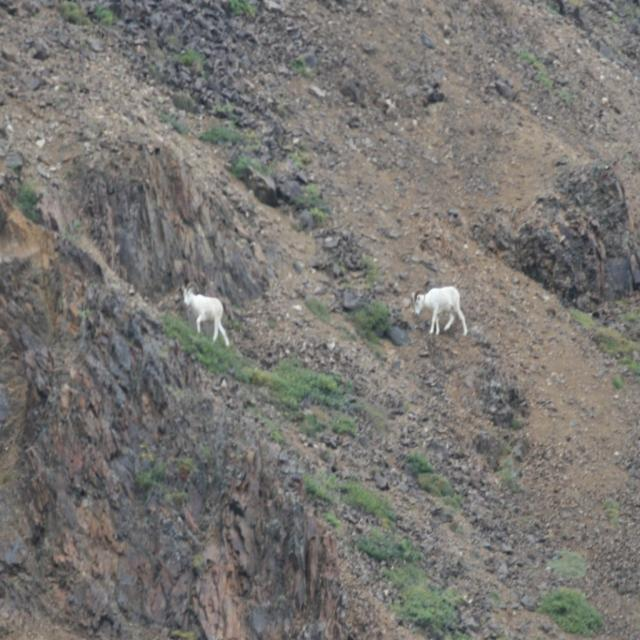Sheep: (178, 286, 224, 356), (410, 285, 470, 336)
